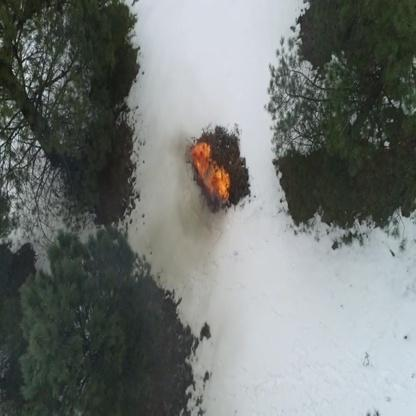Fire: (202, 162, 230, 204), (192, 143, 212, 177)
